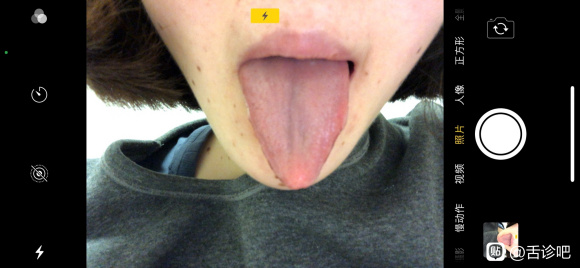baitaishe: (240, 57, 350, 189)
shoushe: (240, 57, 350, 189)
